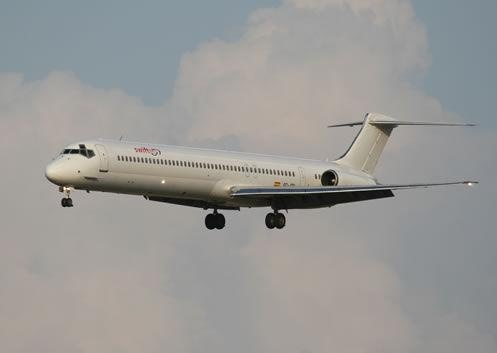airplane: (39, 111, 486, 233)
